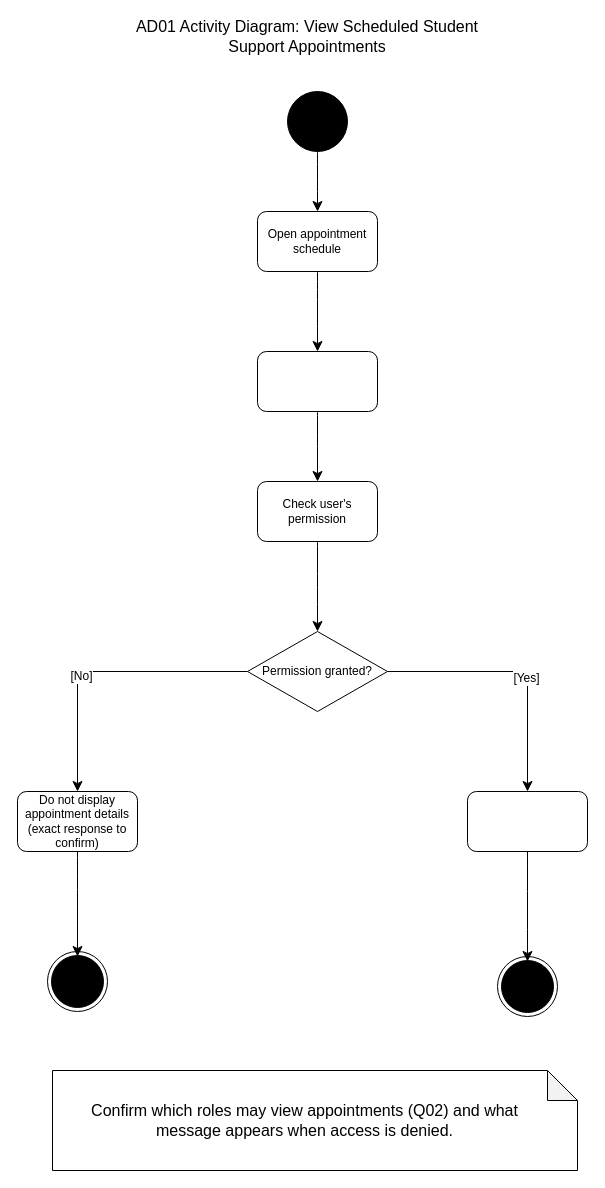
This 605x1188 diagram has some shape labels left out. Each missing label, with the centre of its shape:
Display scheduled appointments for the selected date: pixel 527 821
Select a date: pixel 317 381
